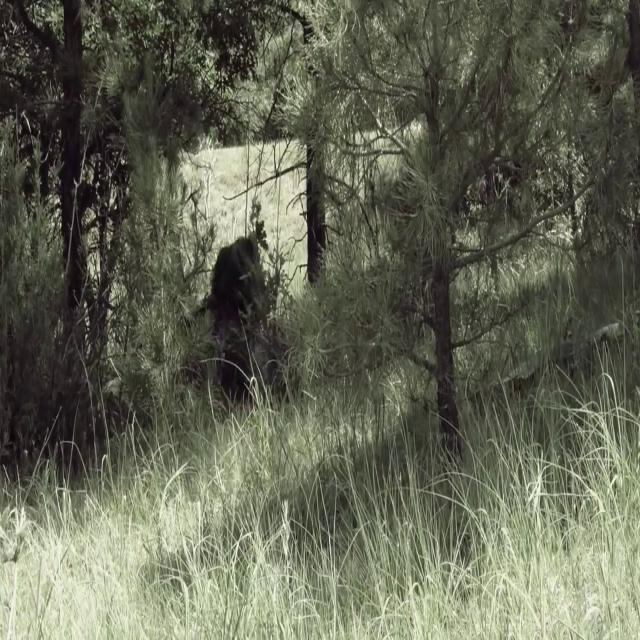human: (193, 235, 286, 404)
